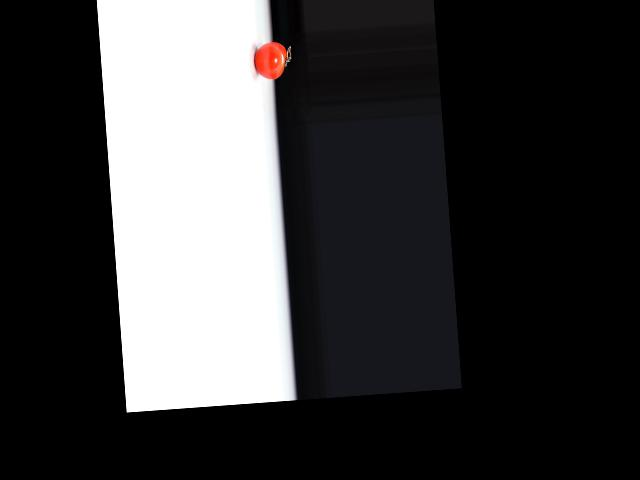tomato: (253, 41, 288, 81)
